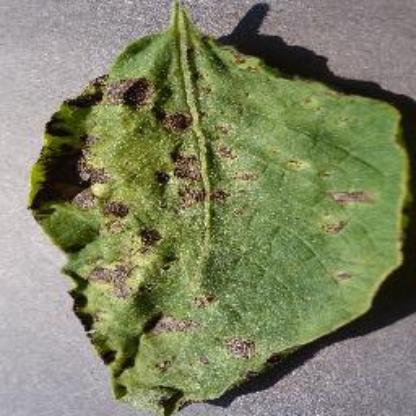Early-Blight: (25, 6, 408, 410)
